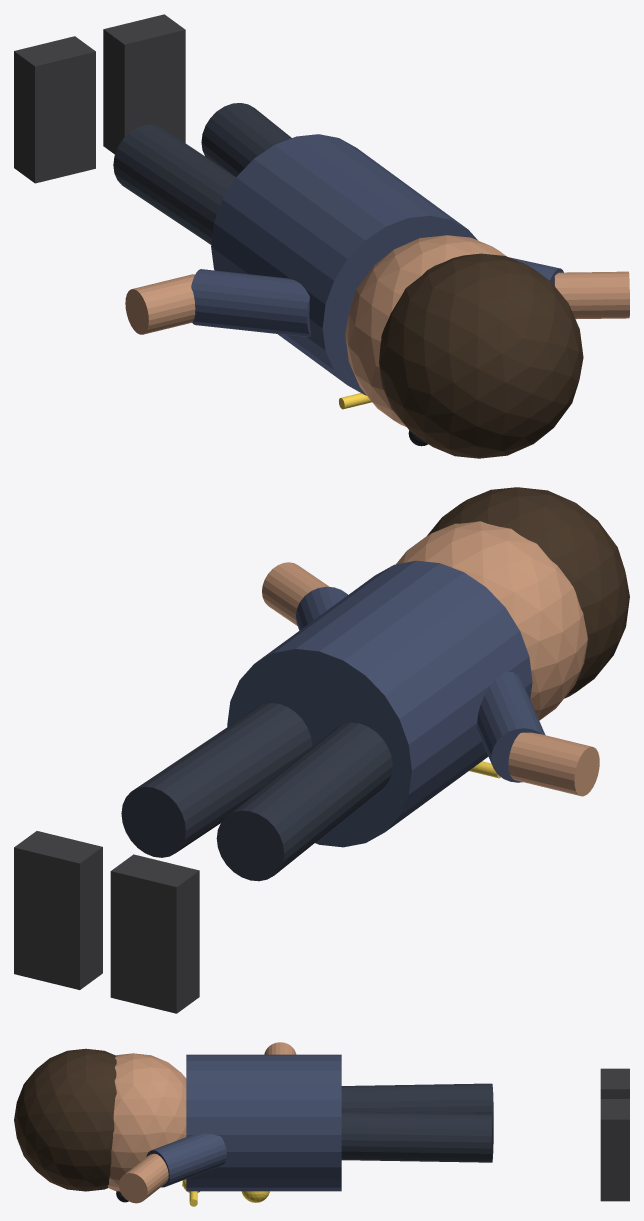
Rendered from Legal_Buddy.glb.
The picture shows the model from 3 angles, top to bottom: view 1: azimuth 30°, elevation 25°; view 2: azimuth 150°, elevation 25°; view 3: azimuth 270°, elevation 25°; orthographic projection. The views are drawn at different scales.
Visible parts, largest first — view 1: hair, torso, shoe.L, shoe.R, leg.L, head, arm.L, leg.R, forearm.L, forearm.R; view 2: torso, leg.L, leg.R, head, shoe.L, shoe.R, hair, forearm.L, arm.L, forearm.R, arm.R; view 3: torso, hair, leg.R, head, leg.L, shoe.R, arm.R, forearm.R, shoe.L, forearm.L, badge.
Part boxes in pixels (<box>): hair: <box>379,253,583,458</box>; torso: <box>211,134,477,395</box>; shoe.L: <box>14,36,95,183</box>; shoe.R: <box>103,14,185,154</box>; leg.L: <box>113,124,235,244</box>; head: <box>345,235,506,426</box>; arm.L: <box>191,269,310,336</box>; leg.R: <box>201,103,291,176</box>; forearm.L: <box>125,274,195,334</box>; forearm.R: <box>554,271,629,319</box>; torso: <box>227,560,532,847</box>; leg.L: <box>216,722,392,881</box>; leg.R: <box>121,703,312,857</box>; head: <box>396,521,587,720</box>; shoe.L: <box>110,854,199,1013</box>; shoe.R: <box>14,831,102,989</box>; hair: <box>426,487,629,698</box>; forearm.L: <box>508,732,599,796</box>; arm.L: <box>477,671,545,782</box>; forearm.R: <box>262,562,329,625</box>; arm.R: <box>296,586,347,630</box>; torso: <box>186,1054,341,1191</box>; hair: <box>14,1048,116,1191</box>; leg.R: <box>341,1111,493,1162</box>; head: <box>108,1053,186,1191</box>; leg.L: <box>341,1083,493,1115</box>; shoe.R: <box>600,1099,629,1201</box>; arm.R: <box>146,1133,226,1187</box>; forearm.R: <box>119,1153,168,1203</box>; shoe.L: <box>600,1068,629,1098</box>; forearm.L: <box>264,1042,296,1054</box>; badge: <box>241,1191,269,1202</box>.
Size of the model in its own units: 1.95 by 0.99 by 3.77.
